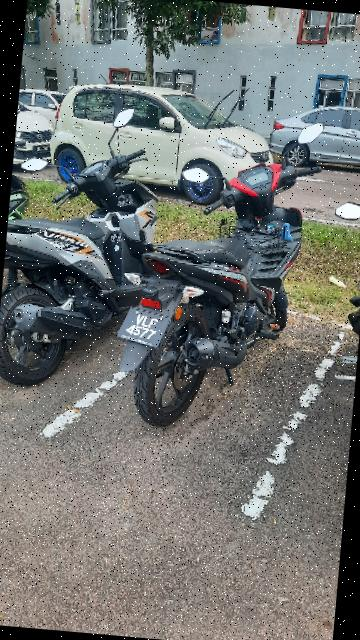License_Plate: (112, 294, 174, 355)
car: (46, 70, 288, 212), (263, 95, 360, 173)
motorcycle: (110, 106, 337, 444), (1, 93, 183, 404)
